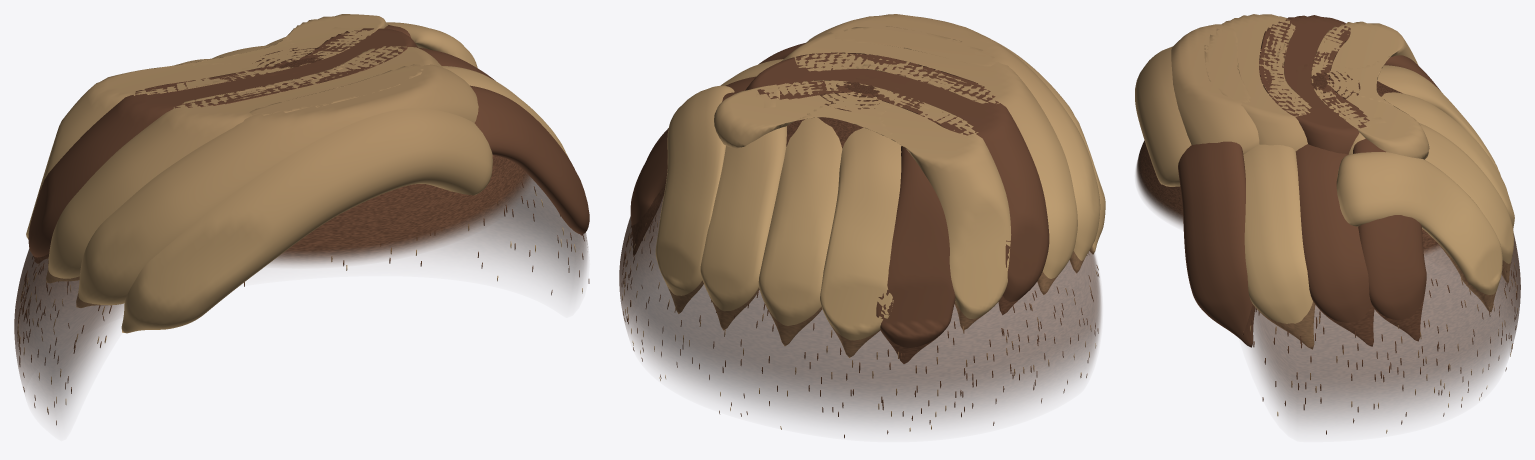
File: Highlights-d6d0f17ec5fd251-hair.glb
3 renders of one model, left to right at view 1: azimuth 30°, elevation 25°; view 2: azimuth 150°, elevation 25°; view 3: azimuth 270°, elevation 25°, orthographic. The views are drawn at different scales.
Parts seen in each view (by area): view 1: 226 hair / Hair / main251.001, 226 hair / Hair / clipped grain251.001, 226 hair / Hair / close cut strokes251.001; view 2: 226 hair / Hair / main251.001, 226 hair / Hair / clipped grain251.001, 226 hair / Hair / close cut strokes251.001; view 3: 226 hair / Hair / main251.001, 226 hair / Hair / clipped grain251.001, 226 hair / Hair / close cut strokes251.001.
Part boxes in pixels (left/top/right/bottom): 226 hair / Hair / main251.001: left=26, top=14, right=589, bottom=333; 226 hair / Hair / clipped grain251.001: left=14, top=47, right=587, bottom=420; 226 hair / Hair / close cut strokes251.001: left=17, top=183, right=589, bottom=425; 226 hair / Hair / main251.001: left=630, top=14, right=1105, bottom=363; 226 hair / Hair / clipped grain251.001: left=619, top=82, right=1101, bottom=426; 226 hair / Hair / close cut strokes251.001: left=622, top=217, right=1098, bottom=438; 226 hair / Hair / main251.001: left=1135, top=14, right=1514, bottom=349; 226 hair / Hair / clipped grain251.001: left=1136, top=71, right=1520, bottom=426; 226 hair / Hair / close cut strokes251.001: left=1242, top=263, right=1517, bottom=434.
Size of the model in its own units: 0.9812 by 0.6183 by 0.752.
4 materials, 1 textured.
